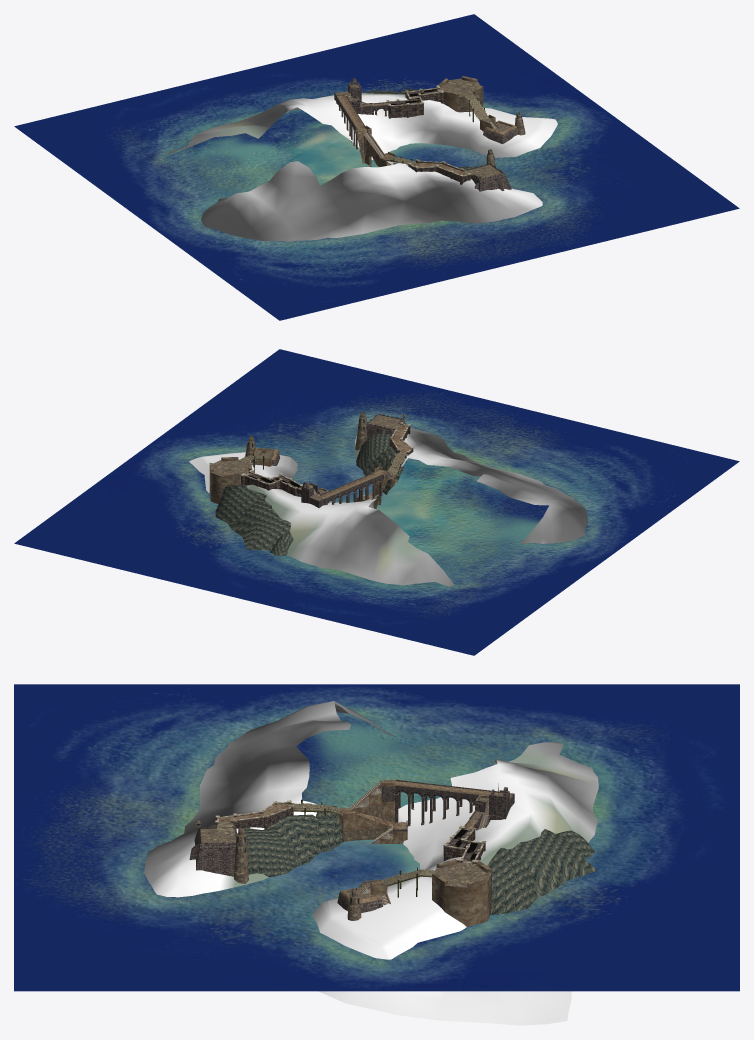
File: pir_m_are_isl_pvpcove_old.fbx
The picture shows the model from 3 angles, top to bottom: view 1: azimuth 30°, elevation 25°; view 2: azimuth 150°, elevation 25°; view 3: azimuth 270°, elevation 25°; orthographic projection. The views are drawn at different scales.
Visible parts, largest first — view 1: water_color, GroundTerrain, platform_2.001; view 2: water_color, GroundTerrain, mound_large4, mound_large3, mound_large1, platform_2.001; view 3: water_color, GroundTerrain, mound_large4, platform_2.001, mound_large3, mound_large1, walls_ramp, mound_large2, exterior_walls1, floor.004, mound_med1, tower24 (+3 smaller).
Boxes of the visible parts, x1,y1,x2,y2 form: water_color: (14, 14, 739, 320); GroundTerrain: (168, 93, 557, 241); platform_2.001: (438, 76, 483, 112); water_color: (14, 349, 739, 655); GroundTerrain: (189, 427, 588, 586); mound_large4: (227, 498, 291, 550); mound_large3: (215, 484, 266, 522); mound_large1: (356, 433, 392, 470); platform_2.001: (209, 457, 252, 503); water_color: (14, 684, 739, 991); GroundTerrain: (144, 701, 598, 1025); mound_large4: (507, 829, 597, 898); platform_2.001: (432, 859, 491, 926); mound_large3: (487, 848, 536, 914); mound_large1: (238, 827, 297, 877); walls_ramp: (339, 808, 407, 843); mound_large2: (268, 816, 320, 865); exterior_walls1: (194, 828, 236, 876); floor.004: (434, 862, 491, 887); mound_med1: (315, 806, 344, 852); tower24: (234, 827, 248, 883).
Size of what is drawn, in the model's own units: 130552 by 22624 by 126632.
Materials: 12 (11 with a texture image).
